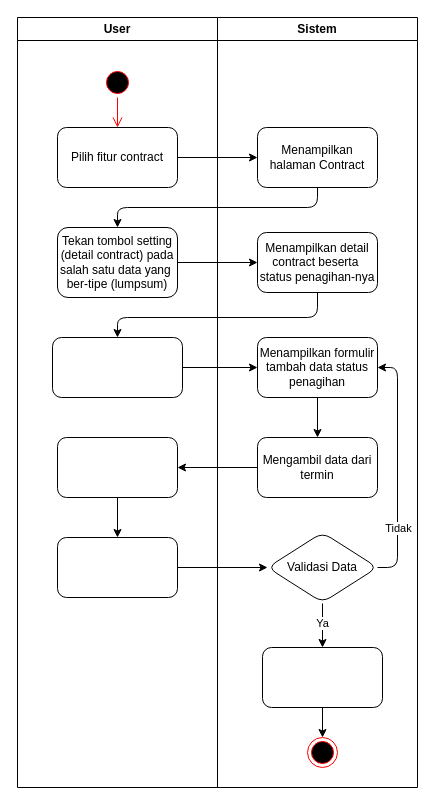
This 435x805 diagram has some shape labels left out. The centre of each missing label's shape, as x and y in pixels:
"Masukkan deskripsi" belongs at (117,567).
"Menyimpan data status penagihan" belongs at (322,677).
"Pilih termin" belongs at (117,467).
"Pilih tombol tambah pada fitur status penagihan di halaman detail contract" belongs at (117,367).
